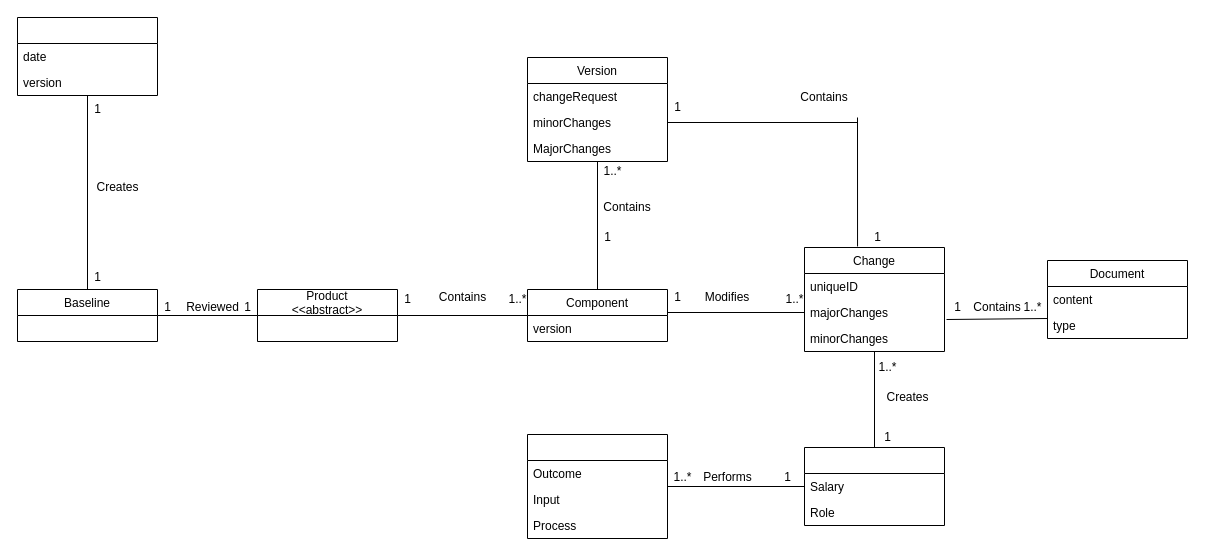
Image size: 1205x559. Some labels were removed from this diagram. Each missing label, with the box of its shape:
Developer: (804, 446, 944, 526)
Release: (16, 16, 158, 96)
Test: (526, 434, 668, 538)
